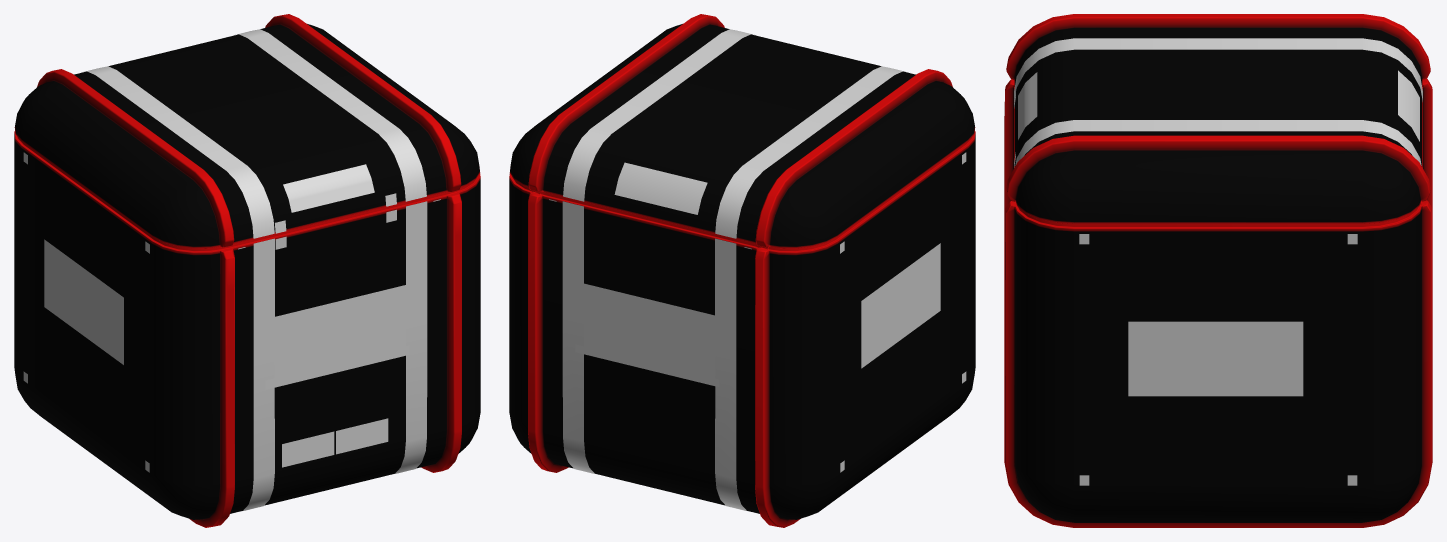
3 views of the same model, side by side, from view 1: azimuth 30°, elevation 25°; view 2: azimuth 150°, elevation 25°; view 3: azimuth 270°, elevation 25° (orthographic). The views are drawn at different scales.
Parts seen in each view (by area): view 1: box, box_decals; view 2: box, box_decals; view 3: box, box_decals.
Part boxes in pixels (x1,y1,x2,y2): box: (14,14,480,527); box_decals: (23,29,440,510); box: (509,14,975,527); box_decals: (549,29,966,510); box: (1004,14,1432,527); box_decals: (1014,38,1422,485).
Bounding box in the file's own units: 0.3813 × 0.4001 × 0.399.
